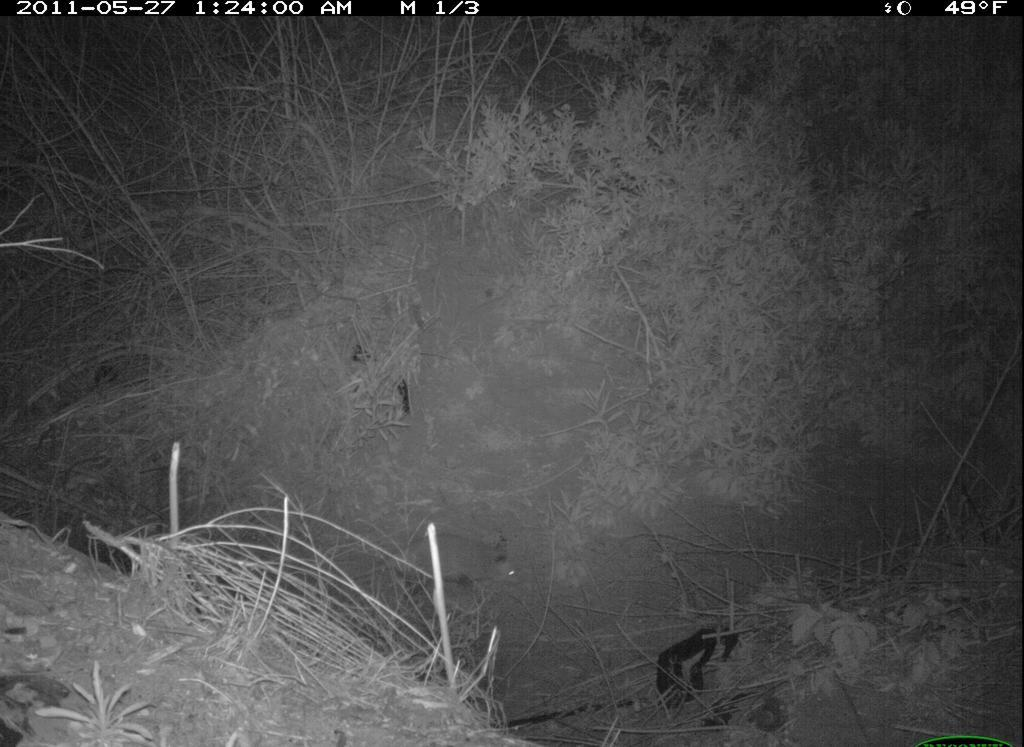opossum: (337, 518, 541, 620)
